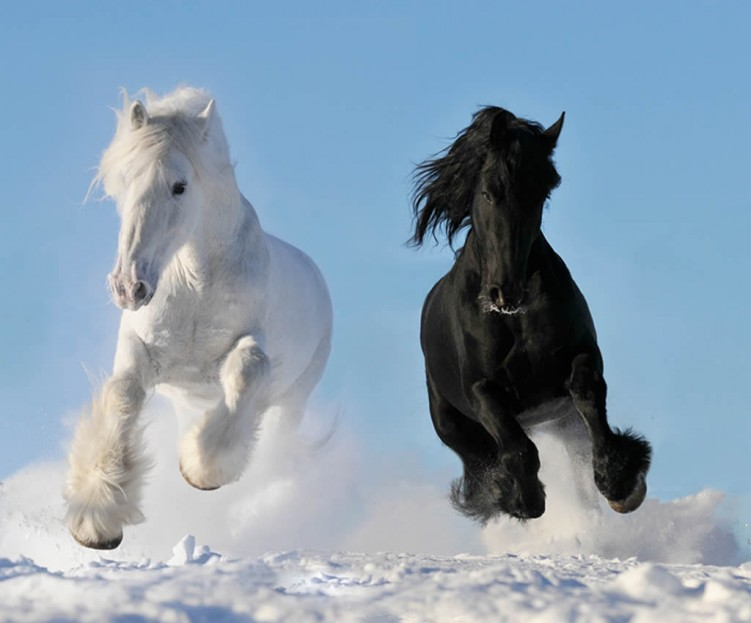horse: (63, 85, 335, 551), (404, 105, 651, 524)
